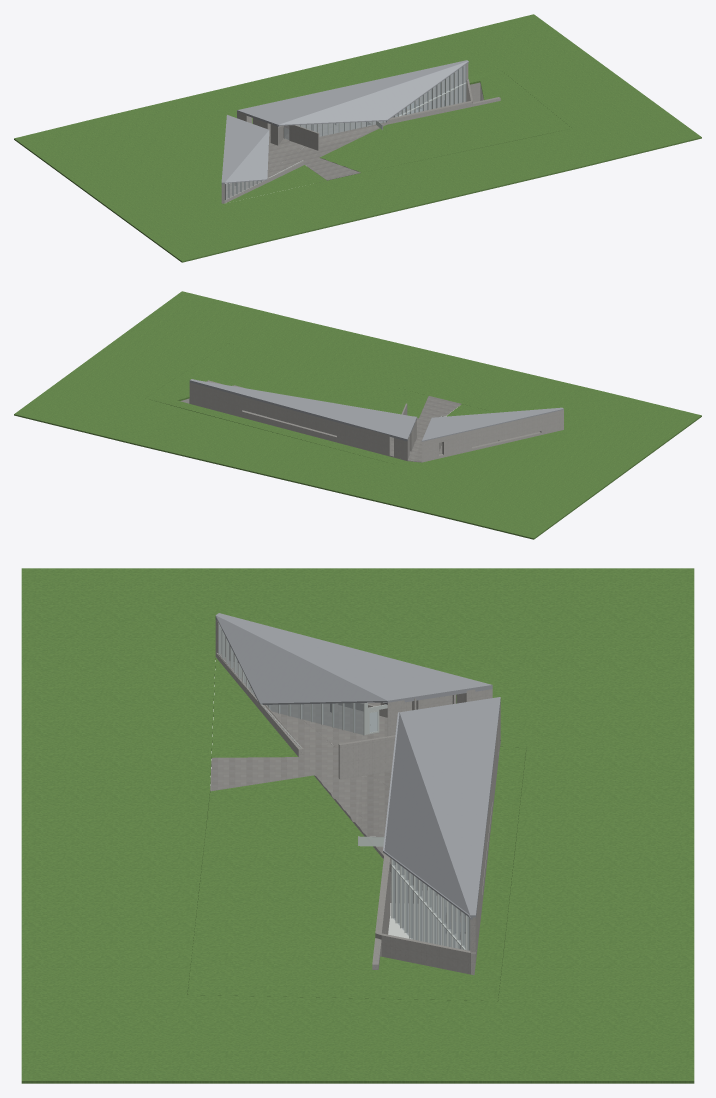
3 renders of one model, top to bottom at view 1: azimuth 30°, elevation 25°; view 2: azimuth 150°, elevation 25°; view 3: azimuth 270°, elevation 25°, orthographic. The views are drawn at different scales.
Parts seen in each view (by area): view 1: B1_roof_slab_lawn__lawn, Roofs_steel_plate__roof, F1_walls_RC__concrete_v, F1_floor_slab__stone, F1_glass__glass, F1_mullions_frames__steel, F1_walls_RC__concrete_h; view 2: B1_roof_slab_lawn__lawn, F1_walls_RC__concrete_v, Roofs_steel_plate__roof, F1_floor_slab__stone, F1_walls_RC__concrete_h; view 3: B1_roof_slab_lawn__lawn, Roofs_steel_plate__roof, F1_floor_slab__stone, F1_walls_RC__concrete_v, F1_mullions_frames__steel, F1_glass__glass, F1_walls_RC__concrete_h, INT_ceiling_B1_roof_slab_lawn__ceiling.
Boxes of the visible parts, x1=… form: B1_roof_slab_lawn__lawn: x1=14, y1=14, x2=701, y2=262; Roofs_steel_plate__roof: x1=221, y1=60, x2=468, y2=184; F1_walls_RC__concrete_v: x1=221, y1=63, x2=500, y2=203; F1_floor_slab__stone: x1=226, y1=121, x2=386, y2=198; F1_glass__glass: x1=226, y1=65, x2=465, y2=199; F1_mullions_frames__steel: x1=225, y1=64, x2=466, y2=200; F1_walls_RC__concrete_h: x1=224, y1=79, x2=499, y2=200; B1_roof_slab_lawn__lawn: x1=14, y1=291, x2=701, y2=539; F1_walls_RC__concrete_v: x1=180, y1=381, x2=563, y2=462; Roofs_steel_plate__roof: x1=189, y1=379, x2=563, y2=441; F1_floor_slab__stone: x1=324, y1=396, x2=539, y2=461; F1_walls_RC__concrete_h: x1=207, y1=380, x2=540, y2=455; B1_roof_slab_lawn__lawn: x1=21, y1=568, x2=694, y2=1083; Roofs_steel_plate__roof: x1=215, y1=613, x2=500, y2=919; F1_floor_slab__stone: x1=210, y1=660, x2=499, y2=864; F1_walls_RC__concrete_v: x1=210, y1=620, x2=500, y2=974; F1_mullions_frames__steel: x1=218, y1=622, x2=470, y2=950; F1_glass__glass: x1=219, y1=624, x2=468, y2=950; F1_walls_RC__concrete_h: x1=216, y1=653, x2=492, y2=964; INT_ceiling_B1_roof_slab_lawn__ceiling: x1=331, y1=743, x2=465, y2=947.
Size of the model in its own units: 125 by 11.3 by 70.
Materials: 10 (10 with a texture image).
